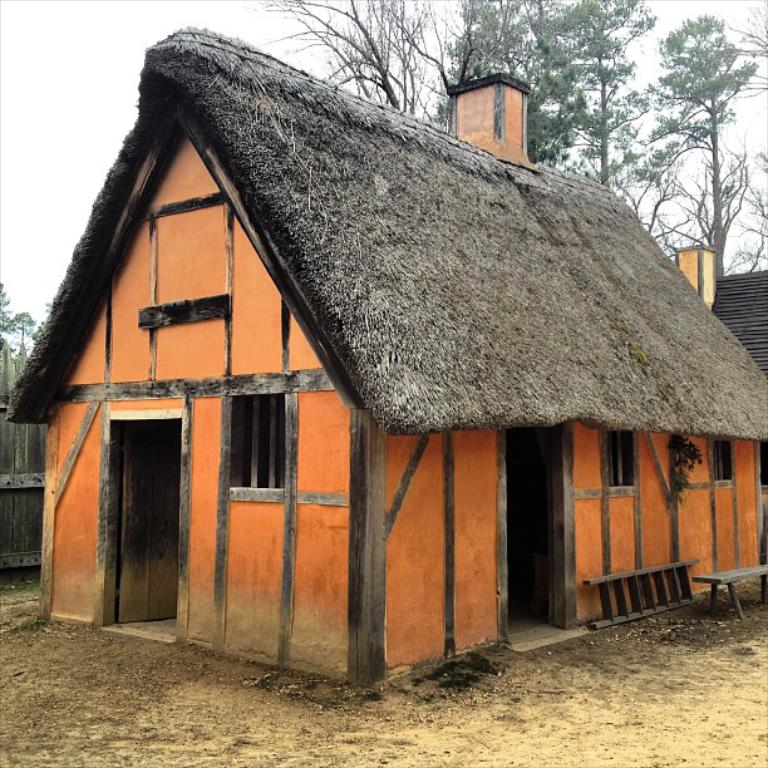Tree: (241, 0, 767, 275), (0, 284, 41, 356)
